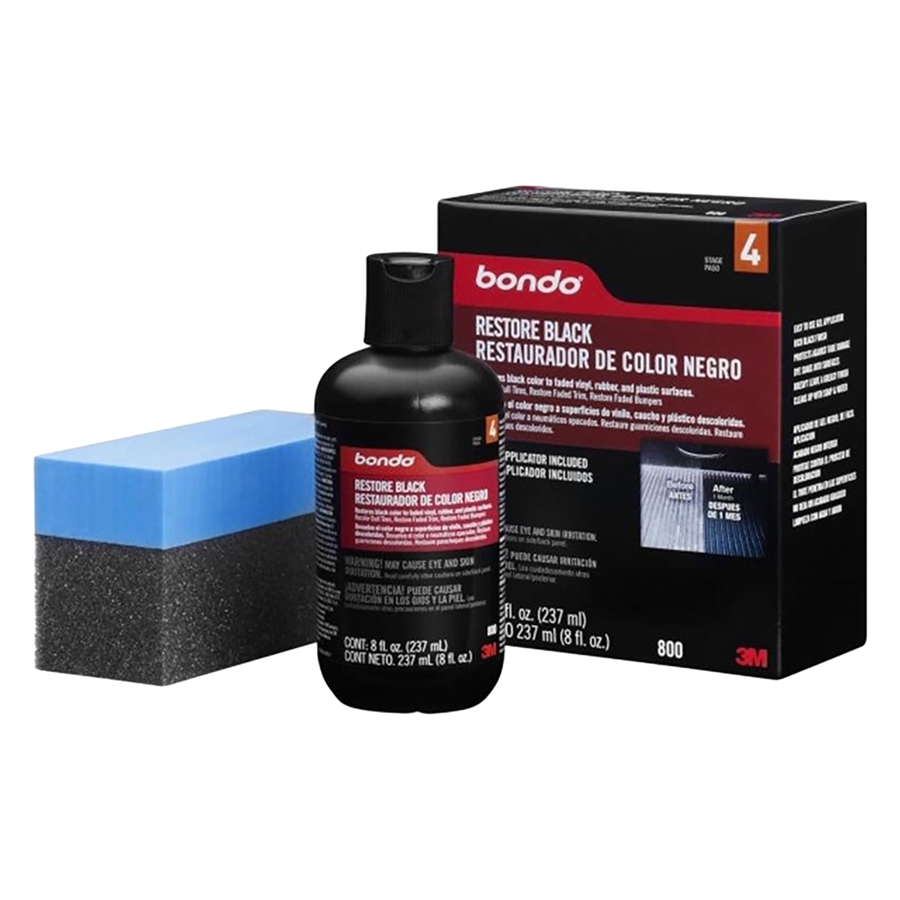3M: (727, 641, 773, 673), (477, 640, 498, 658)
